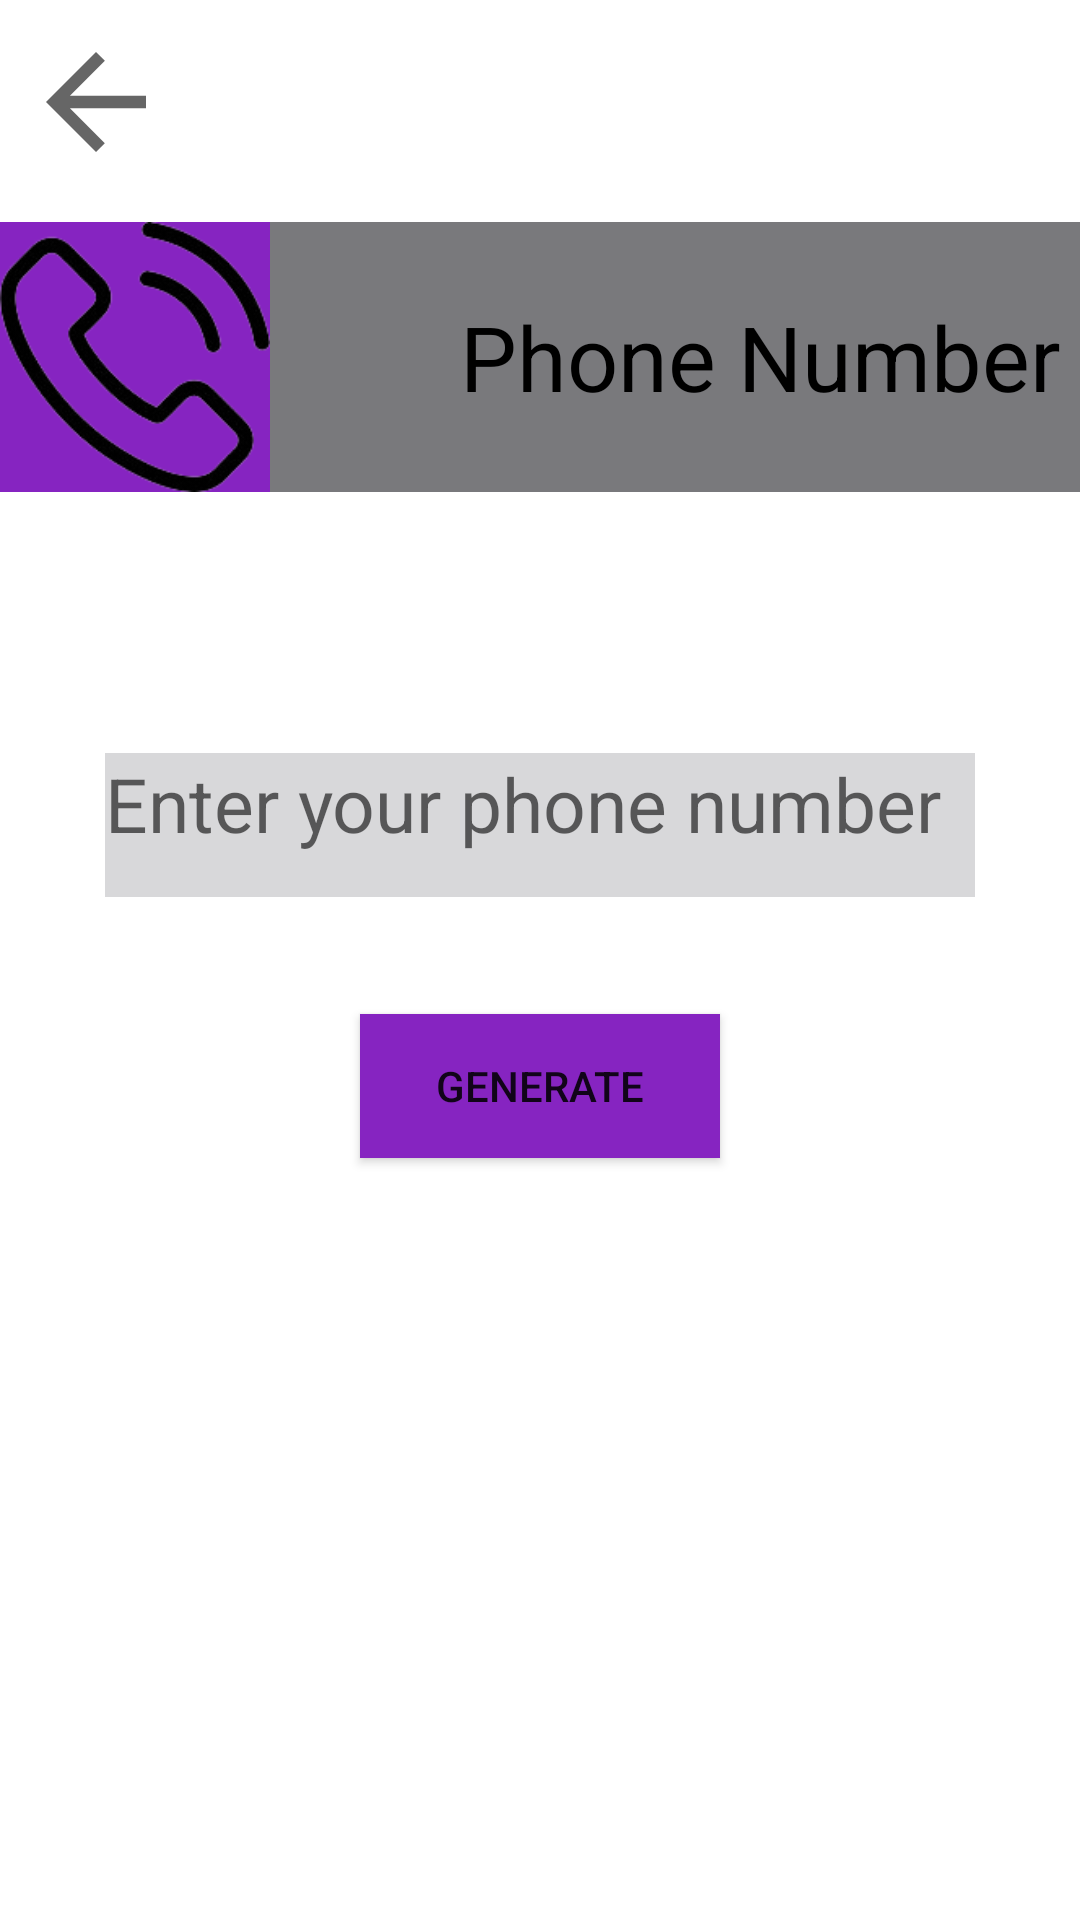

Where icons sit on this 1080w x 1920h app screen, as (left=x1, top=y1, right=x2, bottom=y2):
arrow back: (left=46, top=52, right=146, bottom=152)
